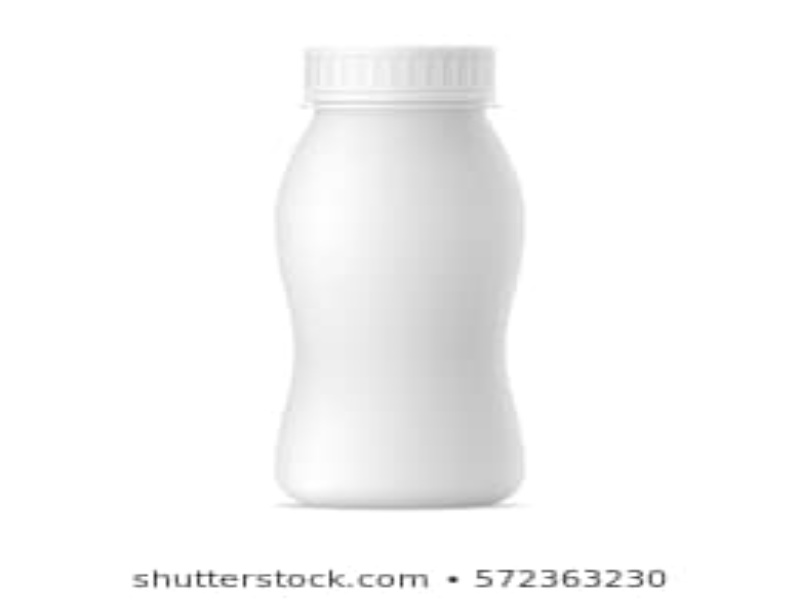shampoo-bottle: (276, 42, 525, 506)
